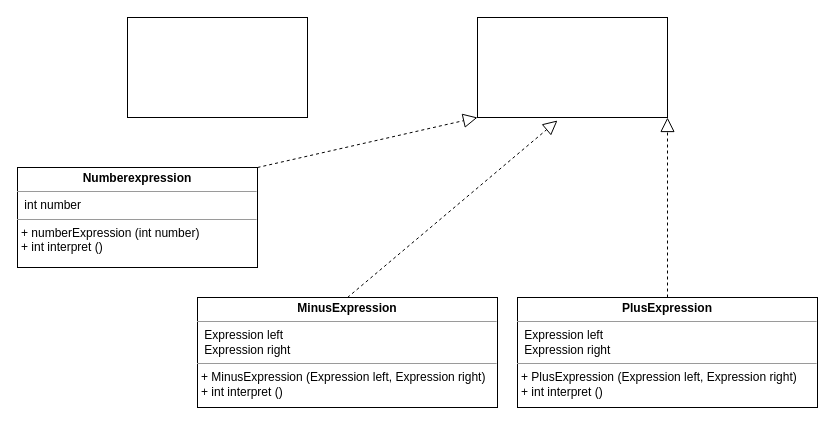
Image size: 835x425. Some labels were removed from this diagram. The shapes that lost their labels are listed below. From the top down, each one's centre as x and y in pixels, then its label:
At [217,67]: "Context Expression evaluate (String s)".
At [572,67]: "<<Interface>> Expression int interpret ()".
